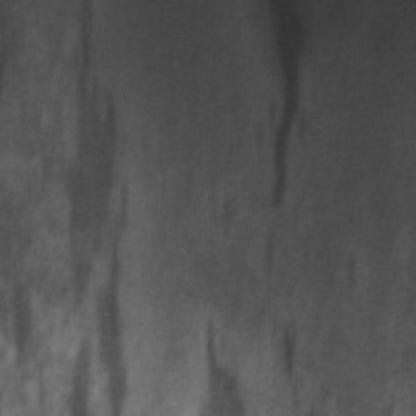inclusion: (4, 0, 129, 410), (254, 0, 310, 210), (189, 310, 248, 410), (270, 314, 316, 410)
